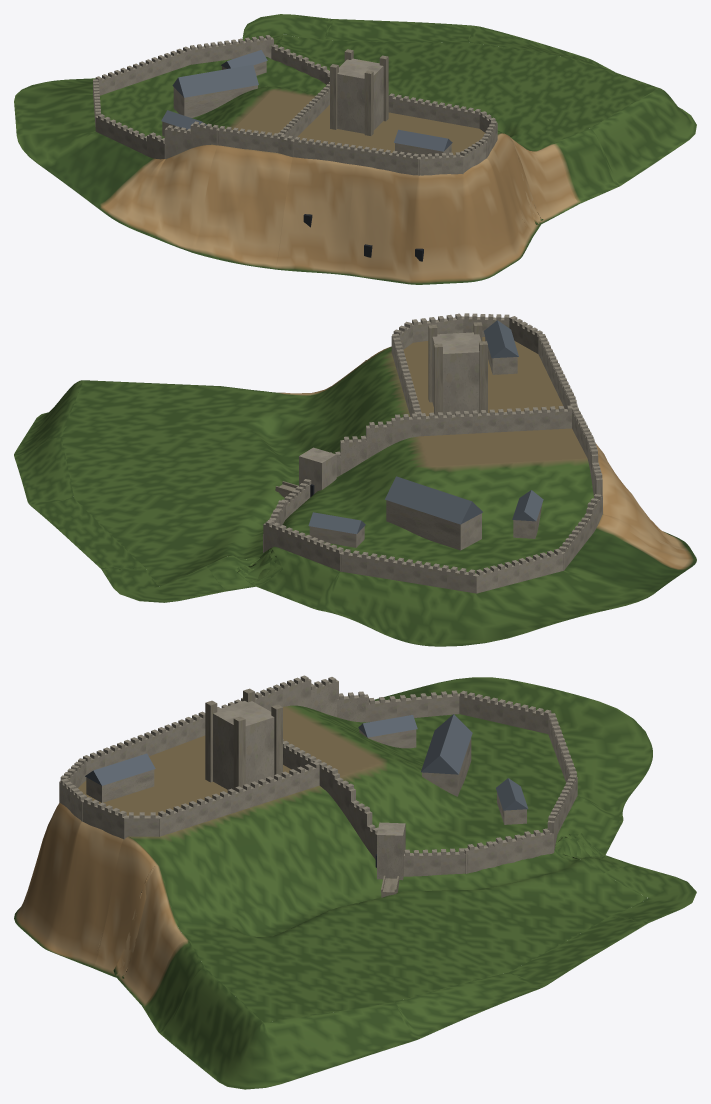
The model's file is nottingham-castle-b20.glb.
3 renders of one model, top to bottom at view 1: azimuth 30°, elevation 25°; view 2: azimuth 150°, elevation 25°; view 3: azimuth 270°, elevation 25°, orthographic. The views are drawn at different scales.
Bounding box in the file's own units: 25.6 × 6.63 × 20.92.
5 materials, 2 textured.
